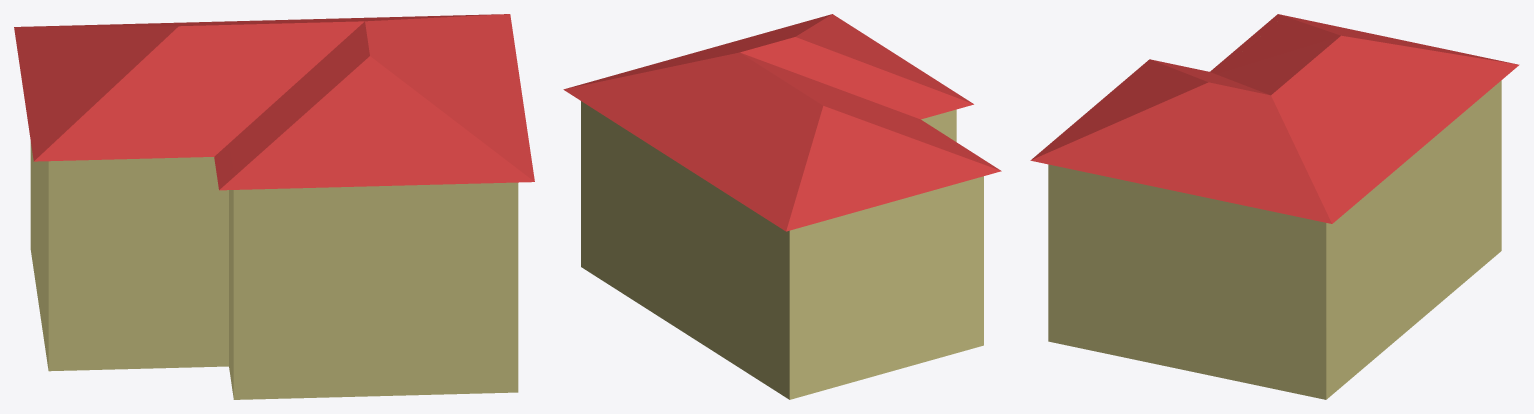
3 views of the same model, side by side, from view 1: azimuth 30°, elevation 25°; view 2: azimuth 150°, elevation 25°; view 3: azimuth 270°, elevation 25° (orthographic). The views are drawn at different scales.
Bounding box in the file's own units: 18.56 × 18.28 × 9.77.
